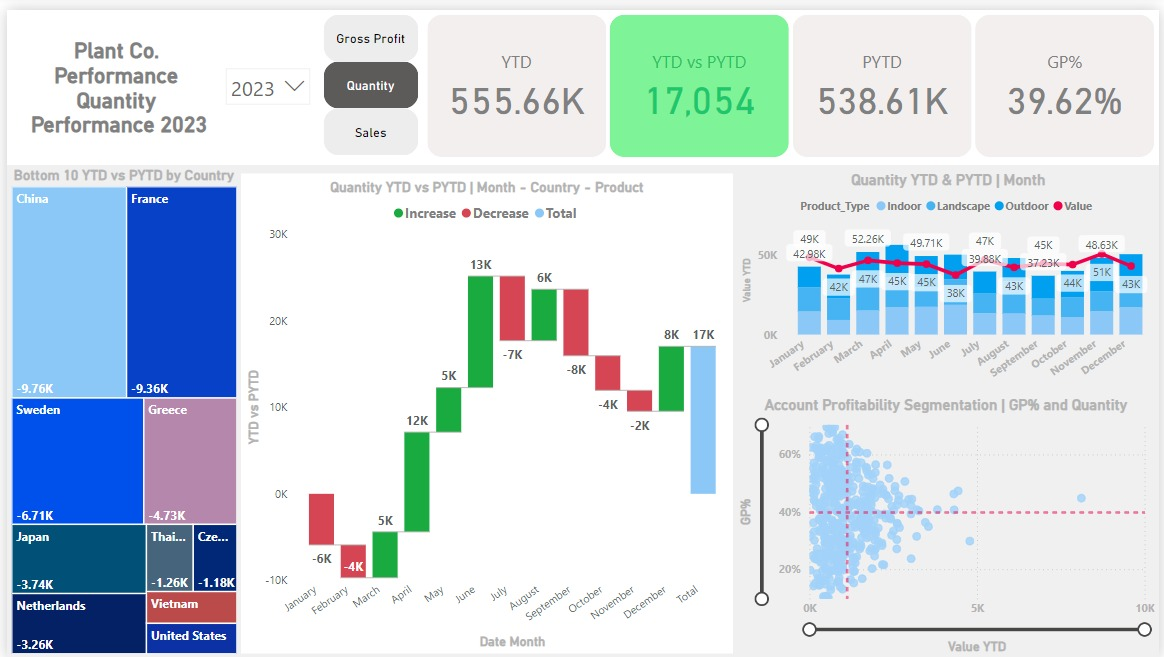

The dashboard page shown, as its layout file describes it:
{"tool":"powerbi","page":{"name":"Performance Report","canvas":[1280,720],"ordinal":1},"visuals":[{"type":"cardVisual","fields":{"Data":["_Measure.S_YTD","_Measure.YTD  vs PYTD","_Measure.S_PYTD","_Measure.GP%"]},"box":[461.7,0,818.3,168.3],"z":0},{"type":"slicer","fields":{"Values":["Dim_Date.Date.Variation.Date Hierarchy.Year"]},"box":[233.3,55,113.3,61.7],"z":1},{"type":"advancedSlicerVisual","fields":{"Values":["Slc_Values.Values"]},"box":[346.7,0,115,168.3],"z":2},{"type":"treemap","fields":{"Values":["_Measure.YTD  vs PYTD"],"Group":["DIM_Account.country"]},"box":[0,168.3,260,552],"z":3},{"type":"waterfallChart","fields":{"Y":["_Measure.YTD  vs PYTD"],"Category":["Dim_Date.Date.Variation.Date Hierarchy.Month","DIM_Account.country","DIM_Product.Product_Name","DIM_Product.Produt_Type"]},"box":[260,181.7,546.7,533],"z":4},{"type":"lineStackedColumnComboChart","fields":{"Y":["_Measure.S_YTD"],"Y2":["_Measure.S_PYTD"],"Category":["Dim_Date.Date.Variation.Date Hierarchy.Quarter","Dim_Date.Date.Variation.Date Hierarchy.Month"],"Series":["DIM_Product.Produt_Type"]},"box":[806.7,168.3,473.3,260],"z":5},{"type":"scatterChart","fields":{"Y":["_Measure.GP%"],"X":["_Measure.S_YTD"],"Category":["DIM_Account.Account"]},"box":[806.7,428.3,473.3,291.7],"z":6},{"type":"card","fields":{"Values":["_Measure._Report Title"]},"box":[15,0,218.3,168.3],"z":7}]}

Visuals, with their boxes in screenshot pixels (x1, y1, x2, y2), scaled from the page's 1280x720 canvas onto the 1164x657 screenshot:
cardVisual - _Measure.S_YTD x _Measure.YTD  vs PYTD: (left=420, top=0, right=1163, bottom=154)
slicer - Dim_Date.Date.Variation.Date Hierarchy.Year: (left=212, top=50, right=315, bottom=106)
advancedSlicerVisual - Slc_Values.Values: (left=315, top=0, right=420, bottom=154)
treemap - _Measure.YTD  vs PYTD x DIM_Account.country: (left=0, top=154, right=236, bottom=656)
waterfallChart - _Measure.YTD  vs PYTD x Dim_Date.Date.Variation.Date Hierarchy.Month: (left=236, top=166, right=734, bottom=652)
lineStackedColumnComboChart - _Measure.S_YTD x _Measure.S_PYTD: (left=734, top=154, right=1163, bottom=391)
scatterChart - _Measure.GP% x _Measure.S_YTD: (left=734, top=391, right=1163, bottom=656)
card - _Measure._Report Title: (left=14, top=0, right=212, bottom=154)
